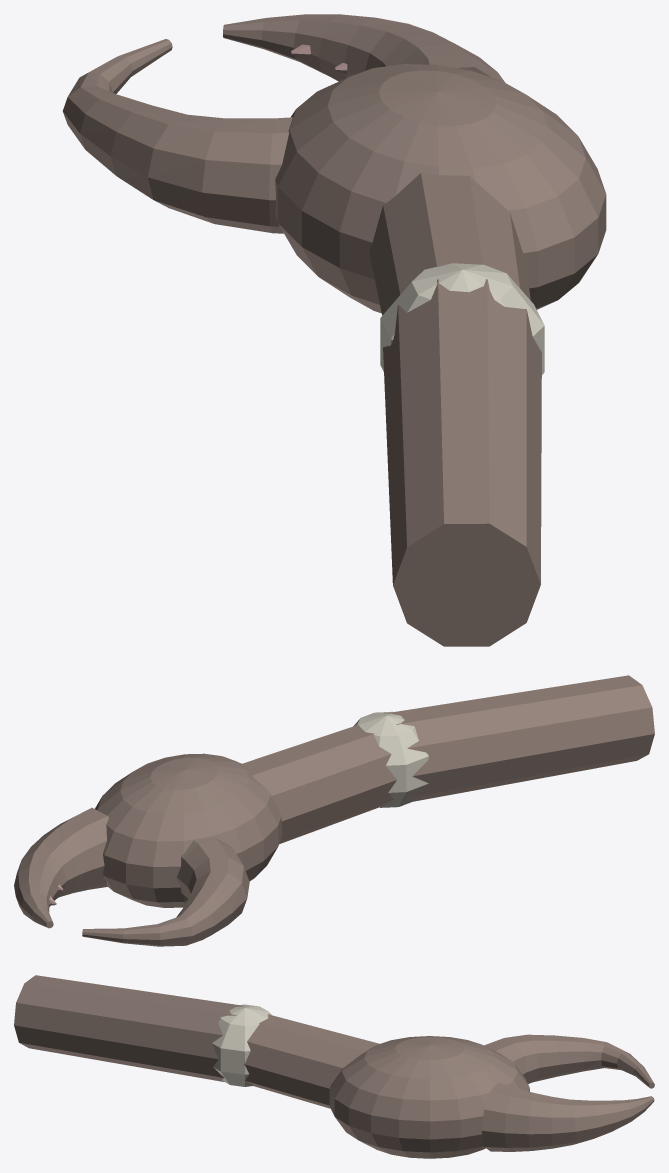
The model's file is crab_claw_r_original_01.glb.
3 views of the same model, one above another, from view 1: azimuth 30°, elevation 25°; view 2: azimuth 150°, elevation 25°; view 3: azimuth 270°, elevation 25° (orthographic). The views are drawn at different scales.
Parts seen in each view (by area): view 1: RChelaArm0, RChelaPalm, RMovableFinger, RChelaArm1, RFixedFinger, RChelaArticulation; view 2: RChelaArm0, RChelaPalm, RChelaArm1, RMovableFinger, RFixedFinger, RChelaArticulation; view 3: RChelaPalm, RChelaArm0, RFixedFinger, RChelaArm1, RMovableFinger, RChelaArticulation.
Boxes of the visible parts, x1,y1,x2,y2 form: RChelaArm0: [383, 279, 541, 646]; RChelaPalm: [275, 64, 606, 313]; RMovableFinger: [62, 39, 292, 233]; RChelaArm1: [369, 173, 530, 315]; RFixedFinger: [223, 14, 505, 82]; RChelaArticulation: [380, 263, 544, 374]; RChelaArm0: [383, 675, 654, 801]; RChelaPalm: [95, 753, 282, 907]; RChelaArm1: [242, 725, 396, 843]; RMovableFinger: [82, 837, 249, 946]; RFixedFinger: [14, 807, 108, 928]; RChelaArticulation: [353, 711, 428, 807]; RChelaPalm: [329, 1036, 529, 1158]; RChelaArm0: [14, 975, 248, 1081]; RFixedFinger: [481, 1082, 654, 1151]; RChelaArm1: [244, 1014, 379, 1108]; RMovableFinger: [484, 1034, 654, 1088]; RChelaArticulation: [212, 1004, 271, 1086].
Bounding box in the file's own units: 0.3591 × 0.124 × 0.6931.
